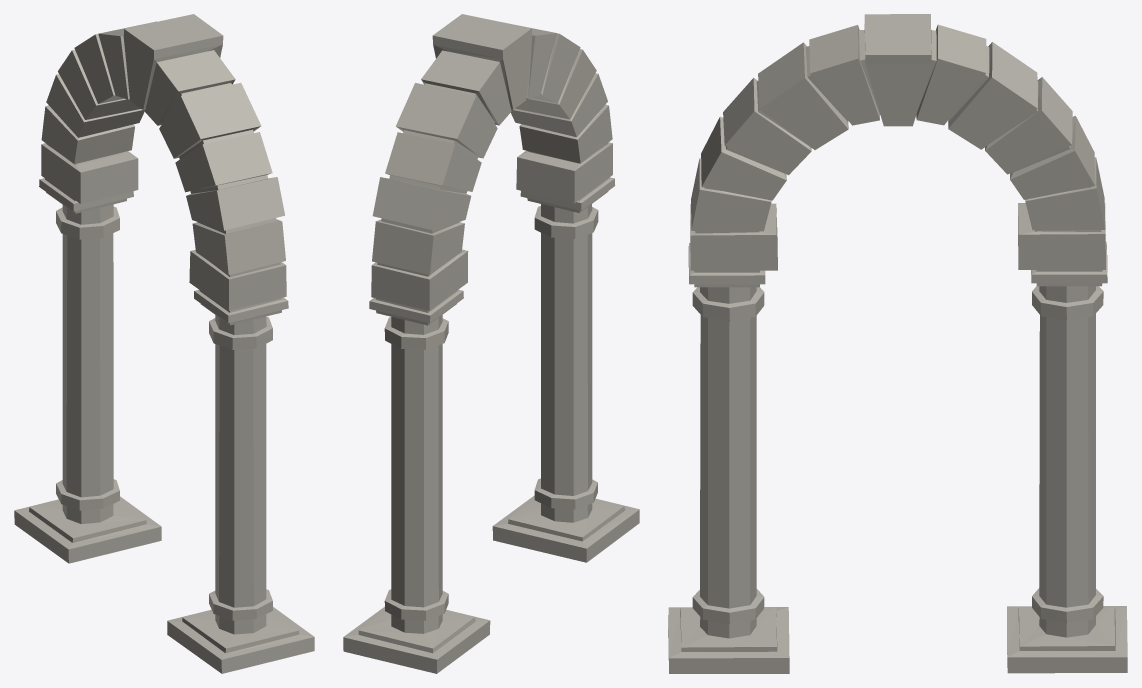
File: Arch.glb
3 views of the same model, side by side, from view 1: azimuth 30°, elevation 25°; view 2: azimuth 150°, elevation 25°; view 3: azimuth 270°, elevation 25° (orthographic). The views are drawn at different scales.
Visible parts, largest first — view 1: Arch; view 2: Arch; view 3: Arch.
Part boxes in pixels (x1=…): Arch: x1=14, y1=14, x2=314, y2=673; Arch: x1=343, y1=14, x2=639, y2=673; Arch: x1=668, y1=14, x2=1127, y2=673.
Bounding box in the file's own units: 0.0478 × 0.2649 × 0.1779.
Materials: 1 (1 with a texture image).
